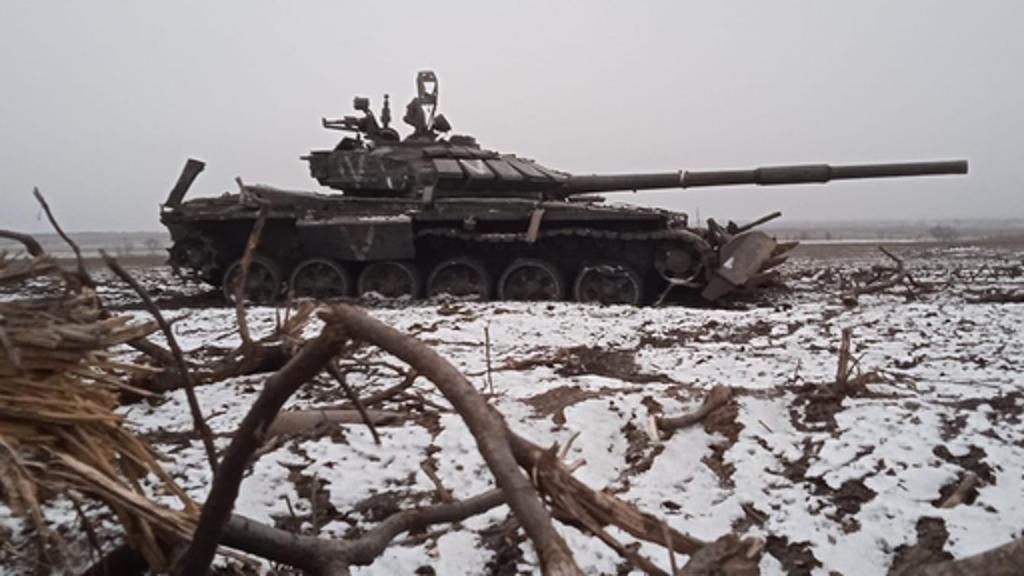TANK: (154, 70, 970, 320)
